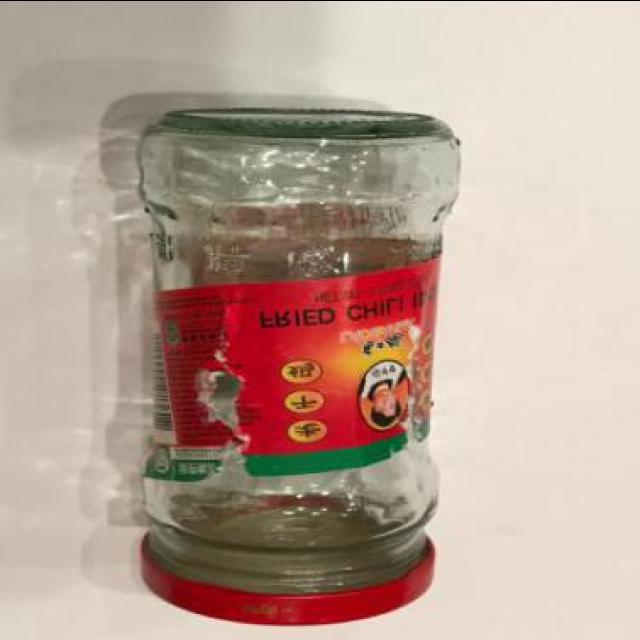kaca: (137, 108, 462, 592)
